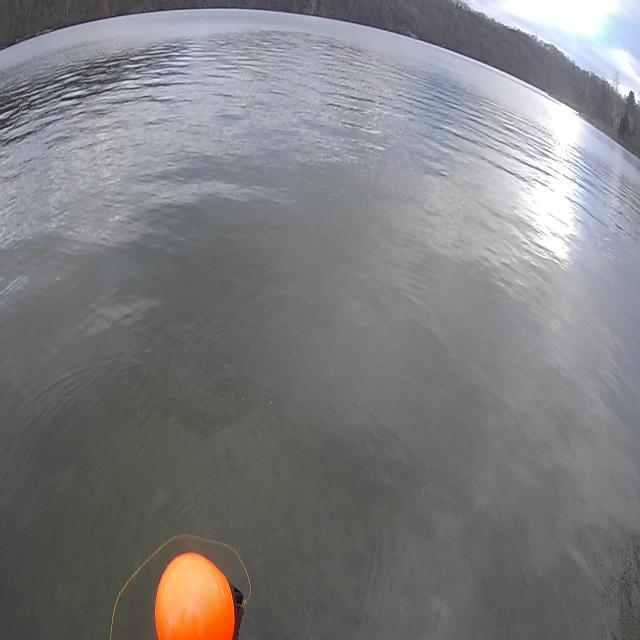Buoy: (147, 535, 252, 640)
